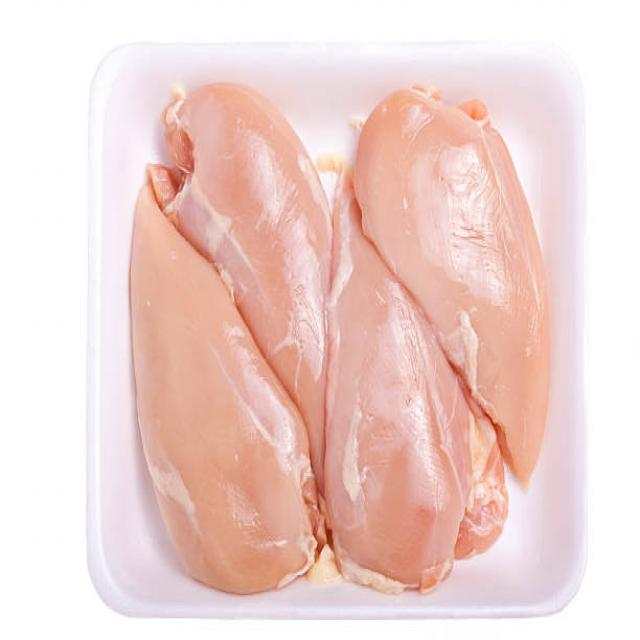Chicken Breast: (326, 269, 466, 640), (139, 297, 290, 640), (363, 15, 591, 216), (166, 83, 322, 242)
